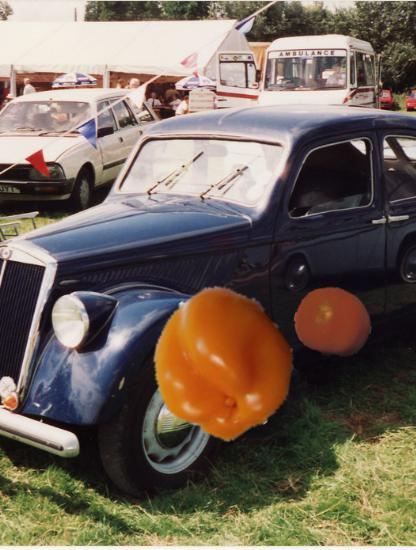Clementine: (294, 283, 373, 362)
Pepper: (147, 291, 295, 439)
